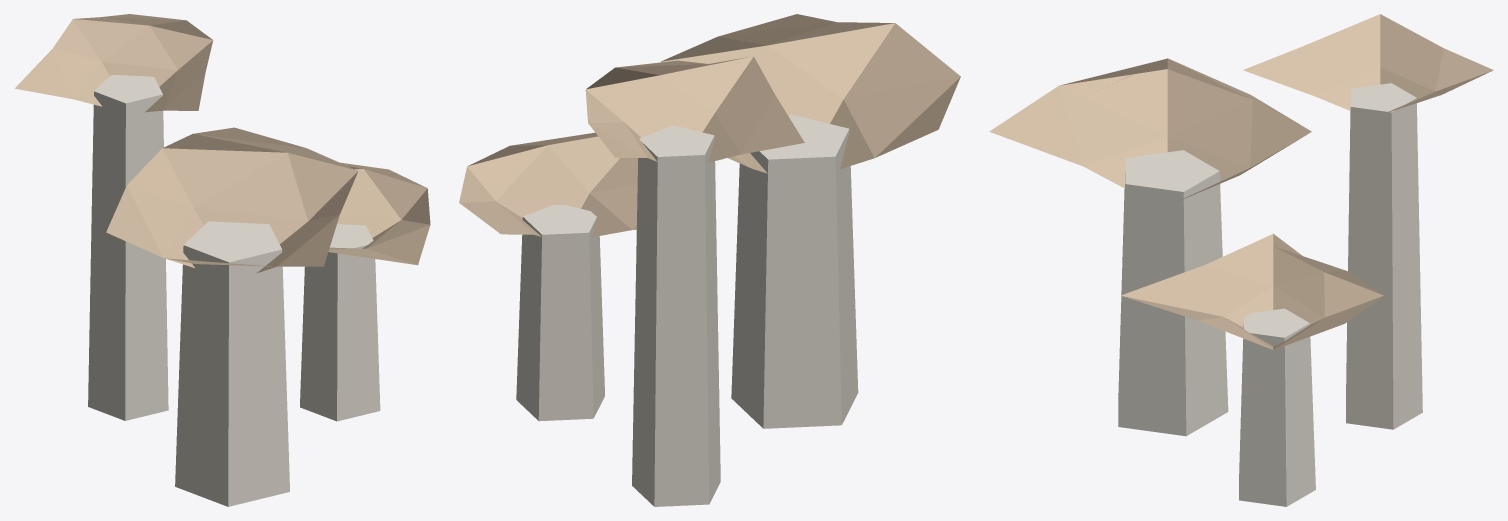
Rendered from mushroom_v09.glb.
3 views of the same model, side by side, from view 1: azimuth 30°, elevation 25°; view 2: azimuth 150°, elevation 25°; view 3: azimuth 270°, elevation 25° (orthographic). The views are drawn at different scales.
Visible parts, largest first — view 1: lod0; view 2: lod0; view 3: lod0.
Boxes of the visible parts, box(x1,y1,x2,y2) form: lod0: box(15, 14, 430, 506); lod0: box(459, 14, 960, 506); lod0: box(989, 14, 1493, 506).
Size of what is drawn, in the model's own units: 0.4231 by 0.42 by 0.4941.
